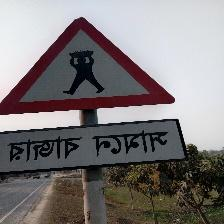Market-in-front: (0, 2, 192, 176)
